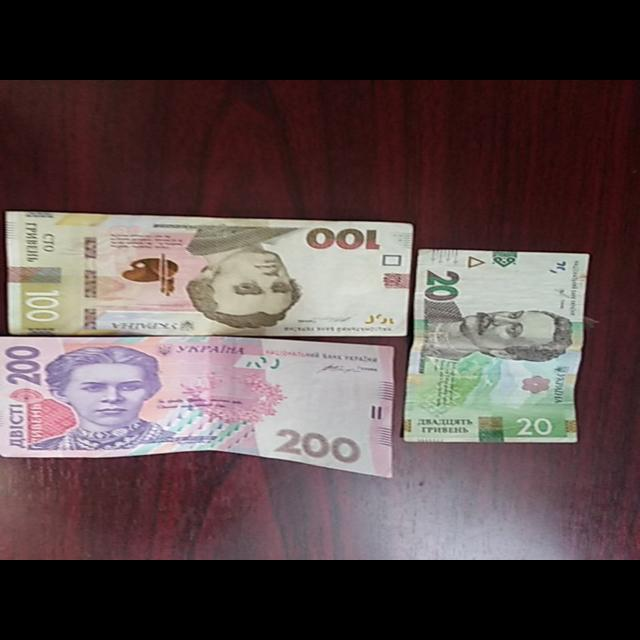100uah: (6, 210, 411, 335)
200uah: (2, 336, 393, 477)
20uah: (402, 250, 591, 445)
